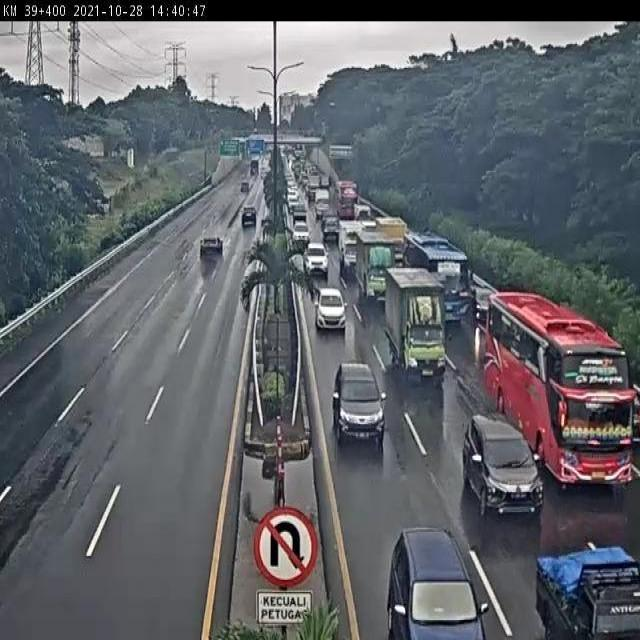bus-l-: (485, 292, 636, 491), (402, 230, 472, 326)
car: (462, 413, 546, 519), (331, 361, 387, 447), (314, 287, 349, 333), (472, 284, 495, 320)
mid truck: (199, 233, 223, 259)
truck-m-: (387, 266, 447, 382), (356, 227, 399, 310)
